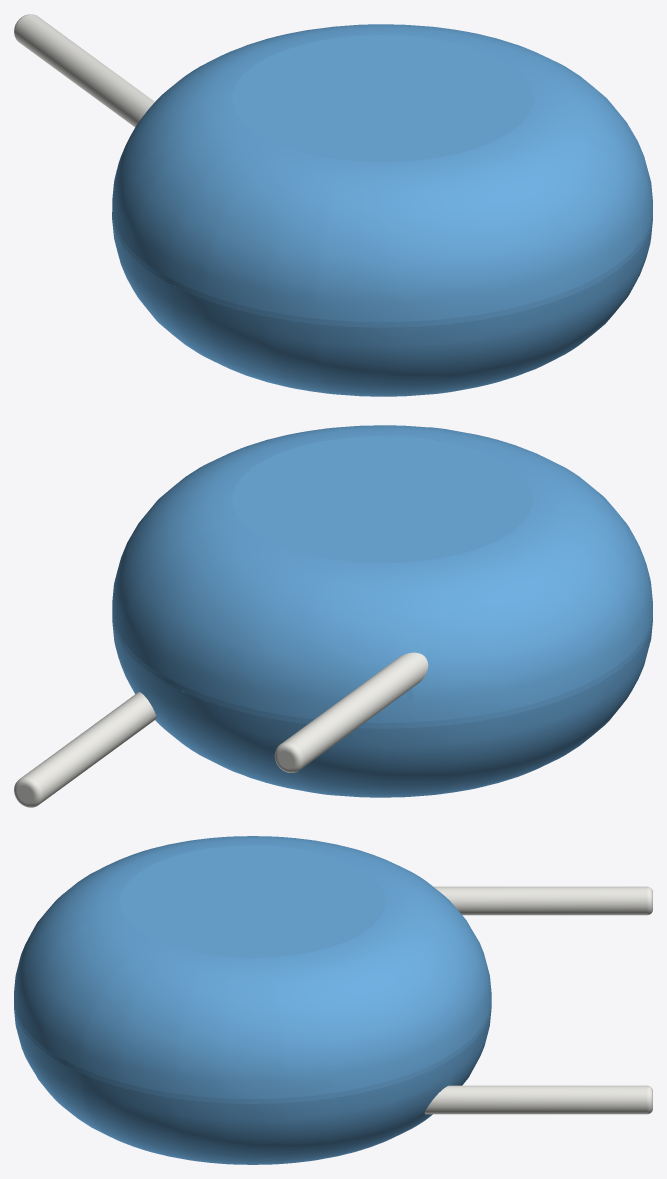
File: RV_Disc_D9mm_W4.1mm_P5mm.glb
The picture shows the model from 3 angles, top to bottom: view 1: azimuth 30°, elevation 25°; view 2: azimuth 150°, elevation 25°; view 3: azimuth 270°, elevation 25°; orthographic projection. The views are drawn at different scales.
Visible parts, largest first — view 1: Shape_IndexedFaceSet.001, Shape_IndexedFaceSet.002, Shape_IndexedFaceSet.003, Shape_IndexedFaceSet.004, Shape_IndexedFaceSet; view 2: Shape_IndexedFaceSet.001, Shape_IndexedFaceSet.003, Shape_IndexedFaceSet.002, Shape_IndexedFaceSet.004, Shape_IndexedFaceSet.006, Shape_IndexedFaceSet; view 3: Shape_IndexedFaceSet.001, Shape_IndexedFaceSet.002, Shape_IndexedFaceSet.003, Shape_IndexedFaceSet.006, Shape_IndexedFaceSet.004, Shape_IndexedFaceSet.
Boxes of the visible parts, x1,y1,x2,y2 form: Shape_IndexedFaceSet.001: [112, 24, 652, 322]; Shape_IndexedFaceSet.002: [112, 220, 652, 396]; Shape_IndexedFaceSet.003: [232, 35, 532, 161]; Shape_IndexedFaceSet.004: [15, 14, 154, 126]; Shape_IndexedFaceSet: [112, 214, 652, 327]; Shape_IndexedFaceSet.001: [112, 425, 652, 723]; Shape_IndexedFaceSet.003: [232, 436, 532, 562]; Shape_IndexedFaceSet.002: [112, 621, 652, 797]; Shape_IndexedFaceSet.004: [280, 652, 428, 769]; Shape_IndexedFaceSet.006: [21, 692, 156, 803]; Shape_IndexedFaceSet: [112, 616, 652, 728]; Shape_IndexedFaceSet.001: [14, 836, 491, 1099]; Shape_IndexedFaceSet.002: [14, 1009, 491, 1164]; Shape_IndexedFaceSet.003: [120, 845, 385, 957]; Shape_IndexedFaceSet.006: [424, 1085, 647, 1114]; Shape_IndexedFaceSet.004: [433, 886, 647, 915]; Shape_IndexedFaceSet: [14, 1004, 491, 1103].
Size of the model in its own units: 3.54 by 1.61 by 4.73.
